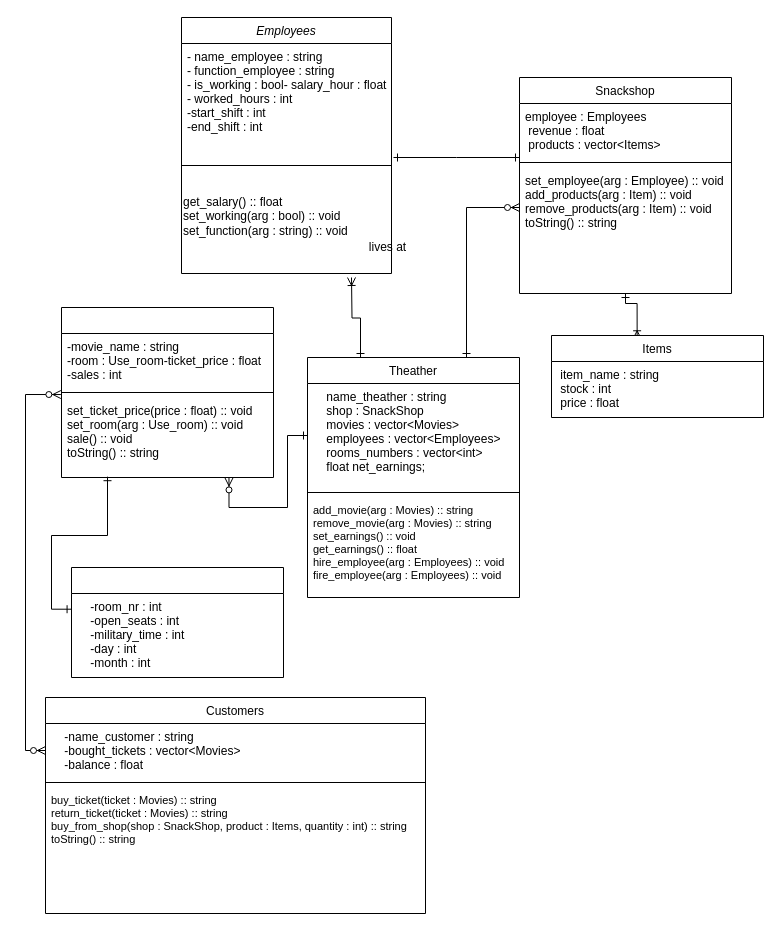
Image size: 781x931. Some labels were removed from this diagram. The shapes that lost their labels are listed below. From the top down, each one's box as (x1, y1, x2, y2) in pixels, then its label:
(60, 306, 274, 478): Movies
(70, 566, 284, 678): Use_room
